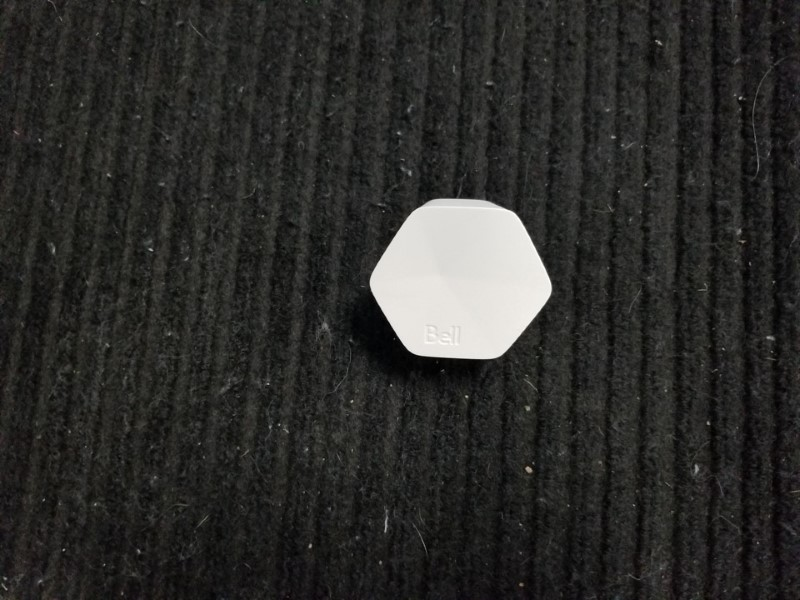pod: (366, 195, 563, 368)
